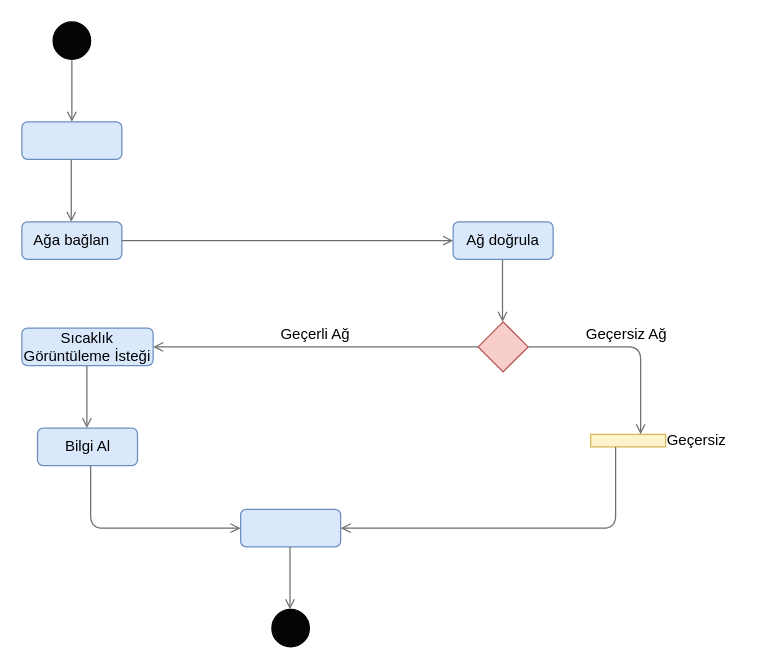
Image size: 775x669. Some labels were removed from this diagram. The shapes that lost their labels are listed below. From the top down, each one's box as (x1, y1, x2, y2) in pixels, then its label:
(21, 121, 122, 159): İşlem Yap
(239, 508, 341, 547): Oturum Sonu
